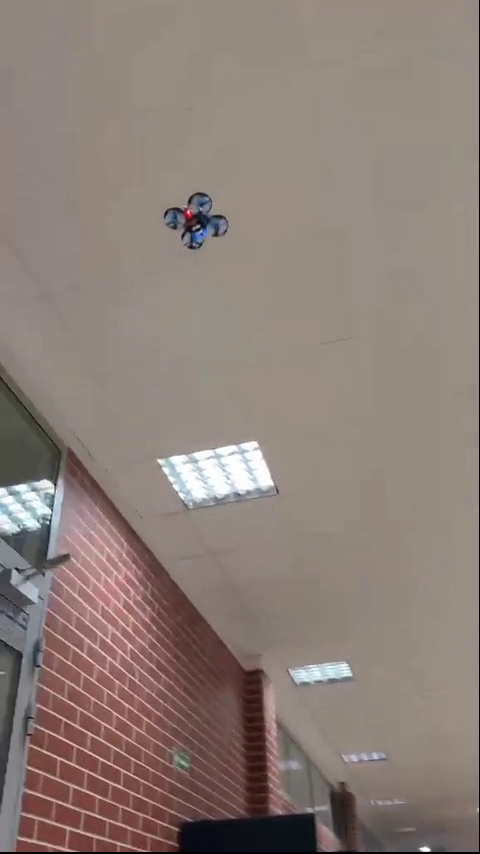drone: (164, 195, 231, 252)
